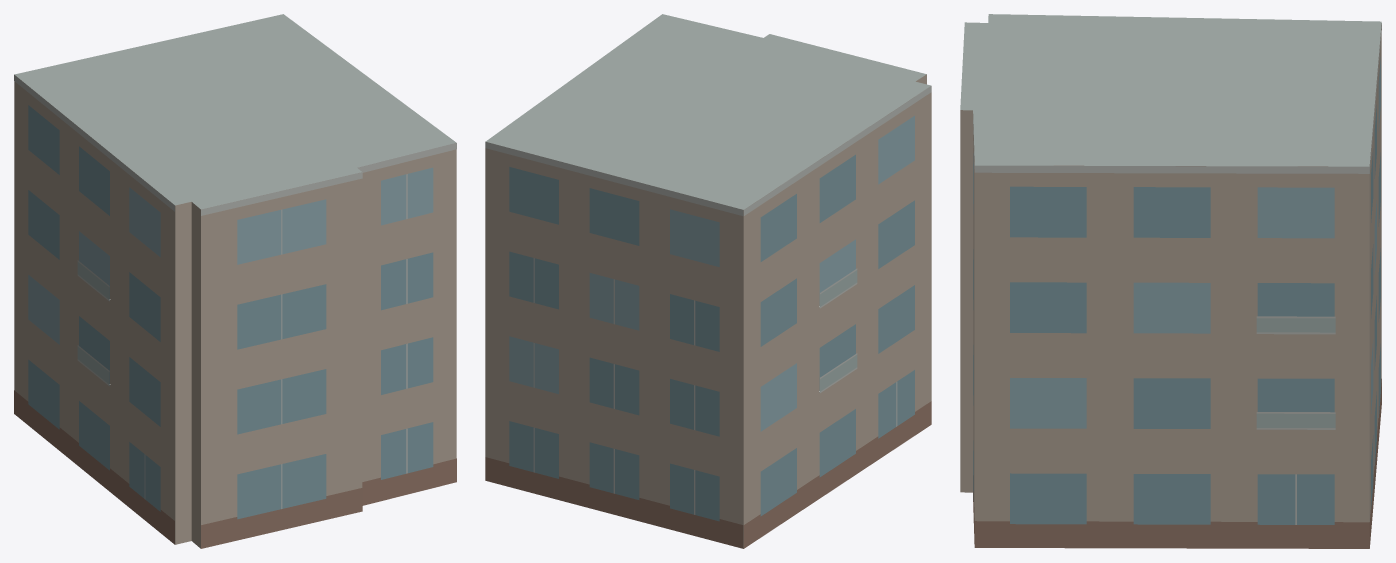
File: survey-upis-32773664.glb
3 views of the same model, side by side, from view 1: azimuth 30°, elevation 25°; view 2: azimuth 150°, elevation 25°; view 3: azimuth 270°, elevation 25° (orthographic). The views are drawn at different scales.
Parts seen in each view (by area): view 1: survey-upis-32773664.tmp; view 2: survey-upis-32773664.tmp; view 3: survey-upis-32773664.tmp.
Part boxes in pixels (x1,y1,x2,y2): survey-upis-32773664.tmp: [14, 14, 456, 548]; survey-upis-32773664.tmp: [485, 14, 931, 548]; survey-upis-32773664.tmp: [960, 14, 1381, 548].
Size of the model in its own units: 10.99 by 12.8 by 12.8.
